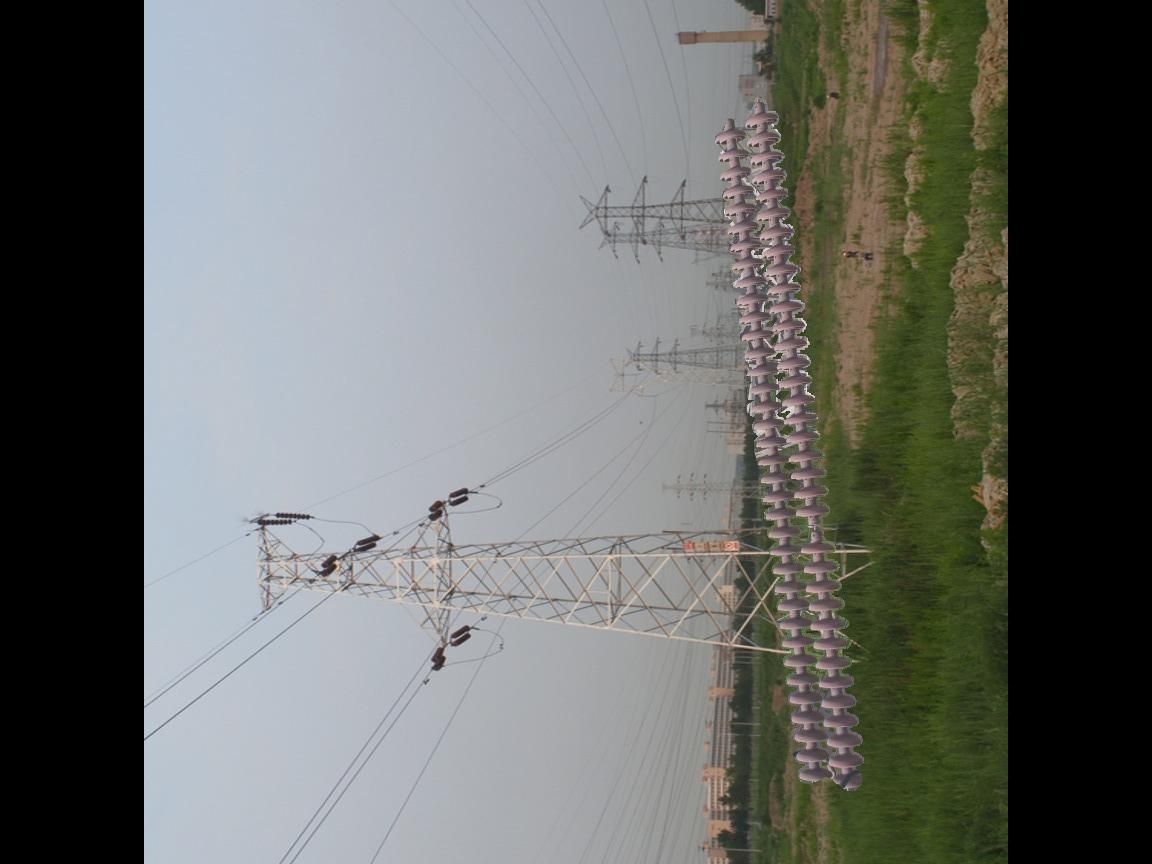insulator: (711, 103, 877, 796)
insulator_stringdrop: (793, 500, 839, 559)
